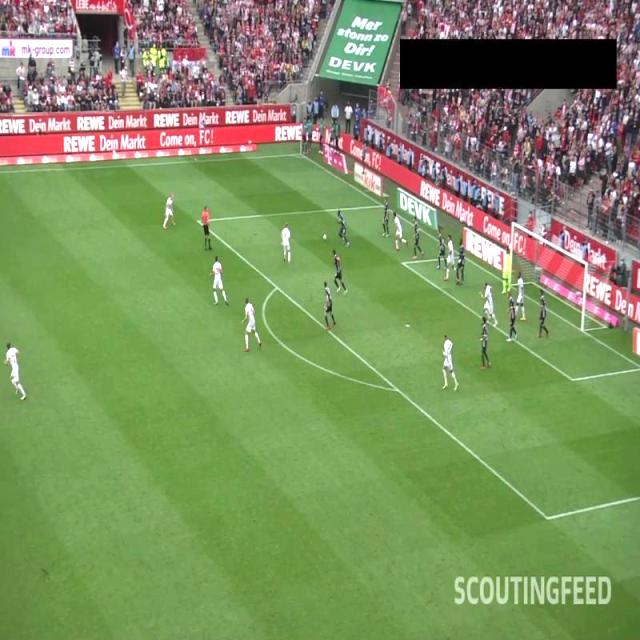bigarea_bottom_inner: (540, 511, 554, 524)
bigarea_top_inner: (192, 216, 204, 227)
bigarea_top_outter: (375, 199, 386, 210)
bottom_arc_area_intersection: (390, 383, 405, 396)
corner: (294, 148, 305, 158)
smallarea_bottom_inner: (566, 372, 578, 386)
smallarea_top_inner: (398, 256, 409, 268)
smallarea_top_outter: (455, 250, 466, 260)
top_arc_area_intersection: (270, 280, 284, 295)
